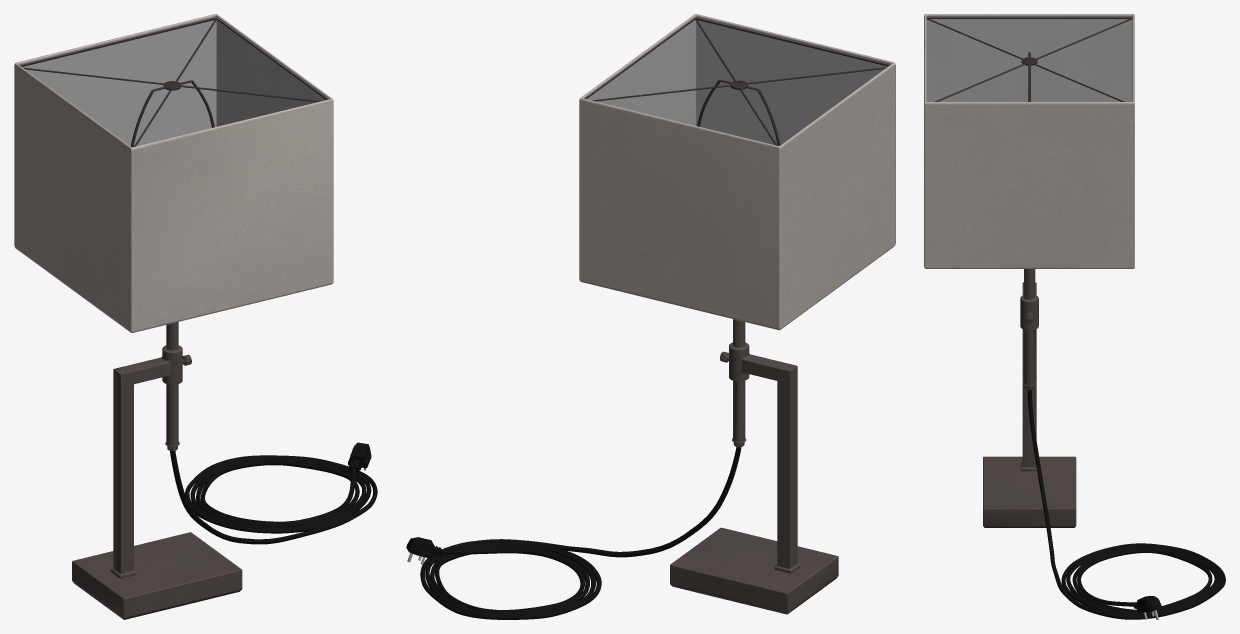
The model's file is B082JHQ5QR.glb.
The picture shows the model from 3 angles, left to right: view 1: azimuth 30°, elevation 25°; view 2: azimuth 150°, elevation 25°; view 3: azimuth 270°, elevation 25°; orthographic projection. The views are drawn at different scales.
Parts seen in each view (by area): view 1: RootNode; view 2: RootNode; view 3: RootNode.
Boxes of the visible parts, x1,y1,x2,y2 form: RootNode: (14, 14, 377, 619); RootNode: (406, 14, 895, 619); RootNode: (924, 14, 1225, 619).
Size of the model in its own units: 0.5041 by 0.66 by 0.3994.
Materials: 1 (1 with a texture image).
